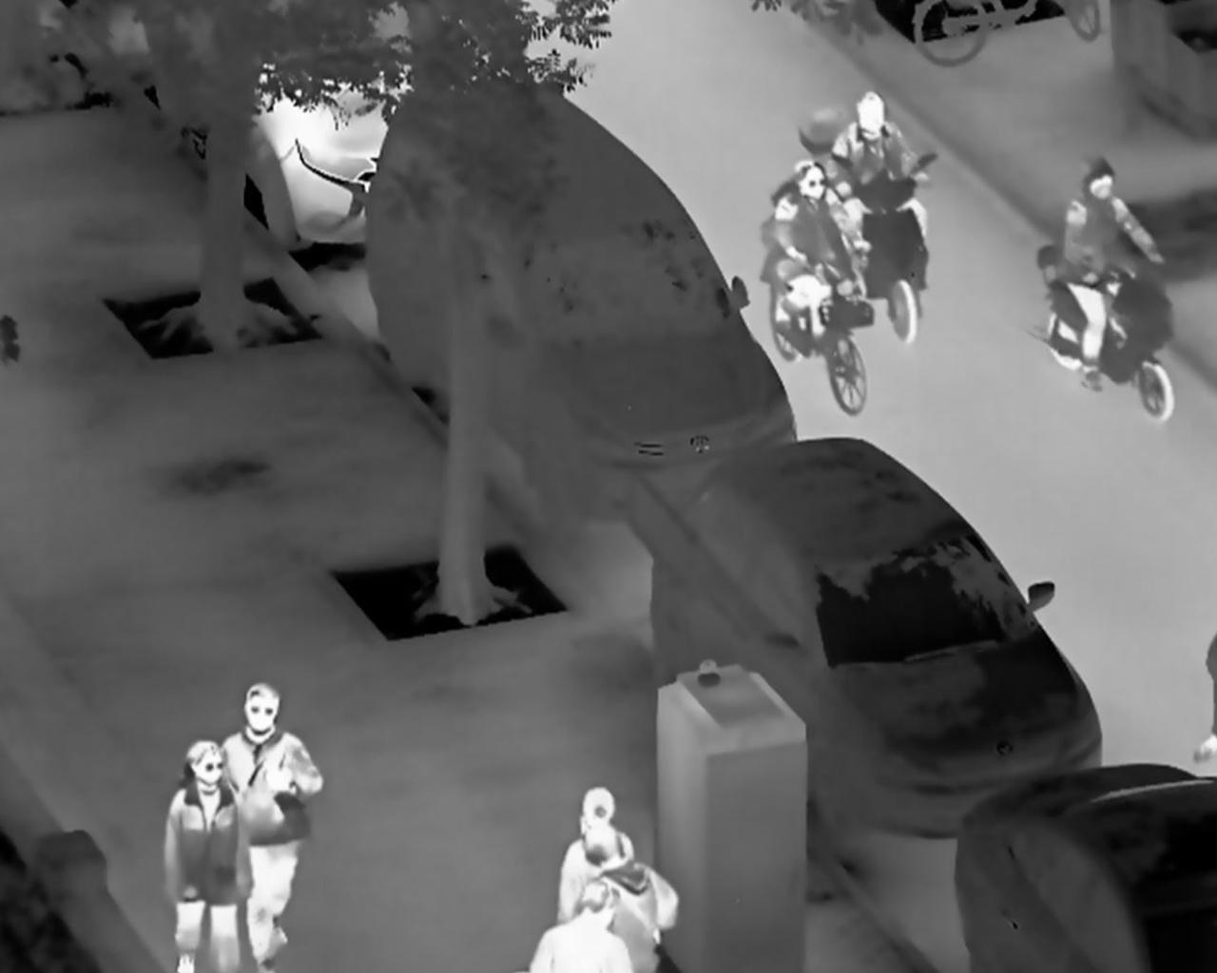person: (217, 681, 325, 973), (1053, 154, 1171, 397), (161, 737, 256, 973), (762, 158, 870, 362), (824, 87, 932, 277), (572, 825, 658, 973), (555, 787, 630, 925), (531, 876, 629, 973)
